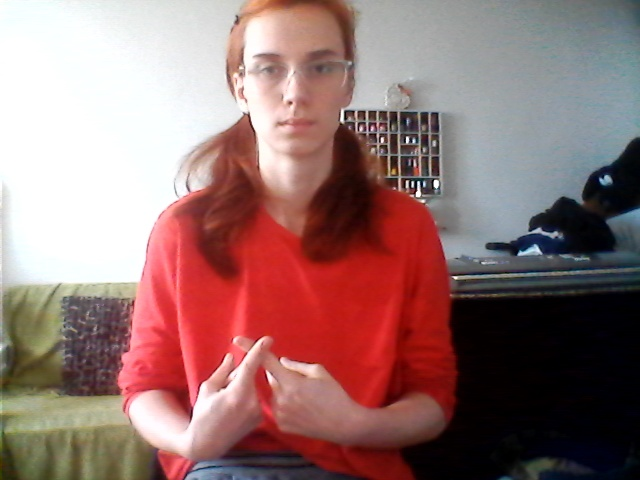x: (169, 328, 358, 458)
